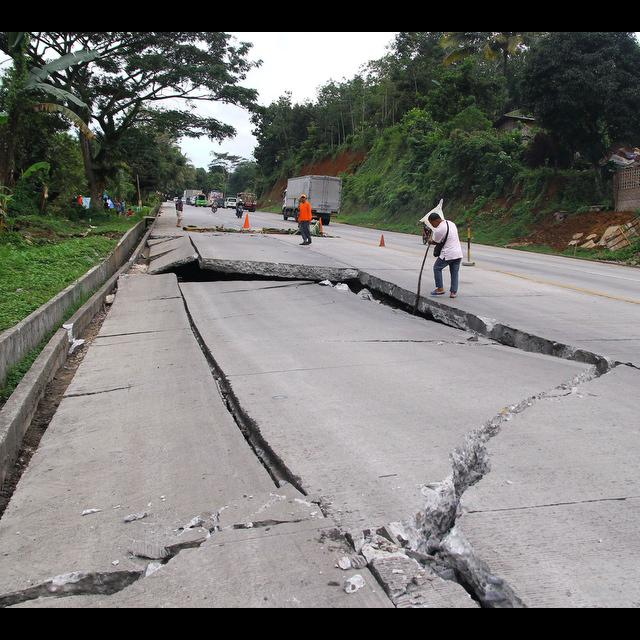retak_memanjang: (362, 346, 499, 608), (355, 279, 632, 399), (0, 514, 319, 608), (164, 289, 308, 489), (152, 233, 397, 318)
